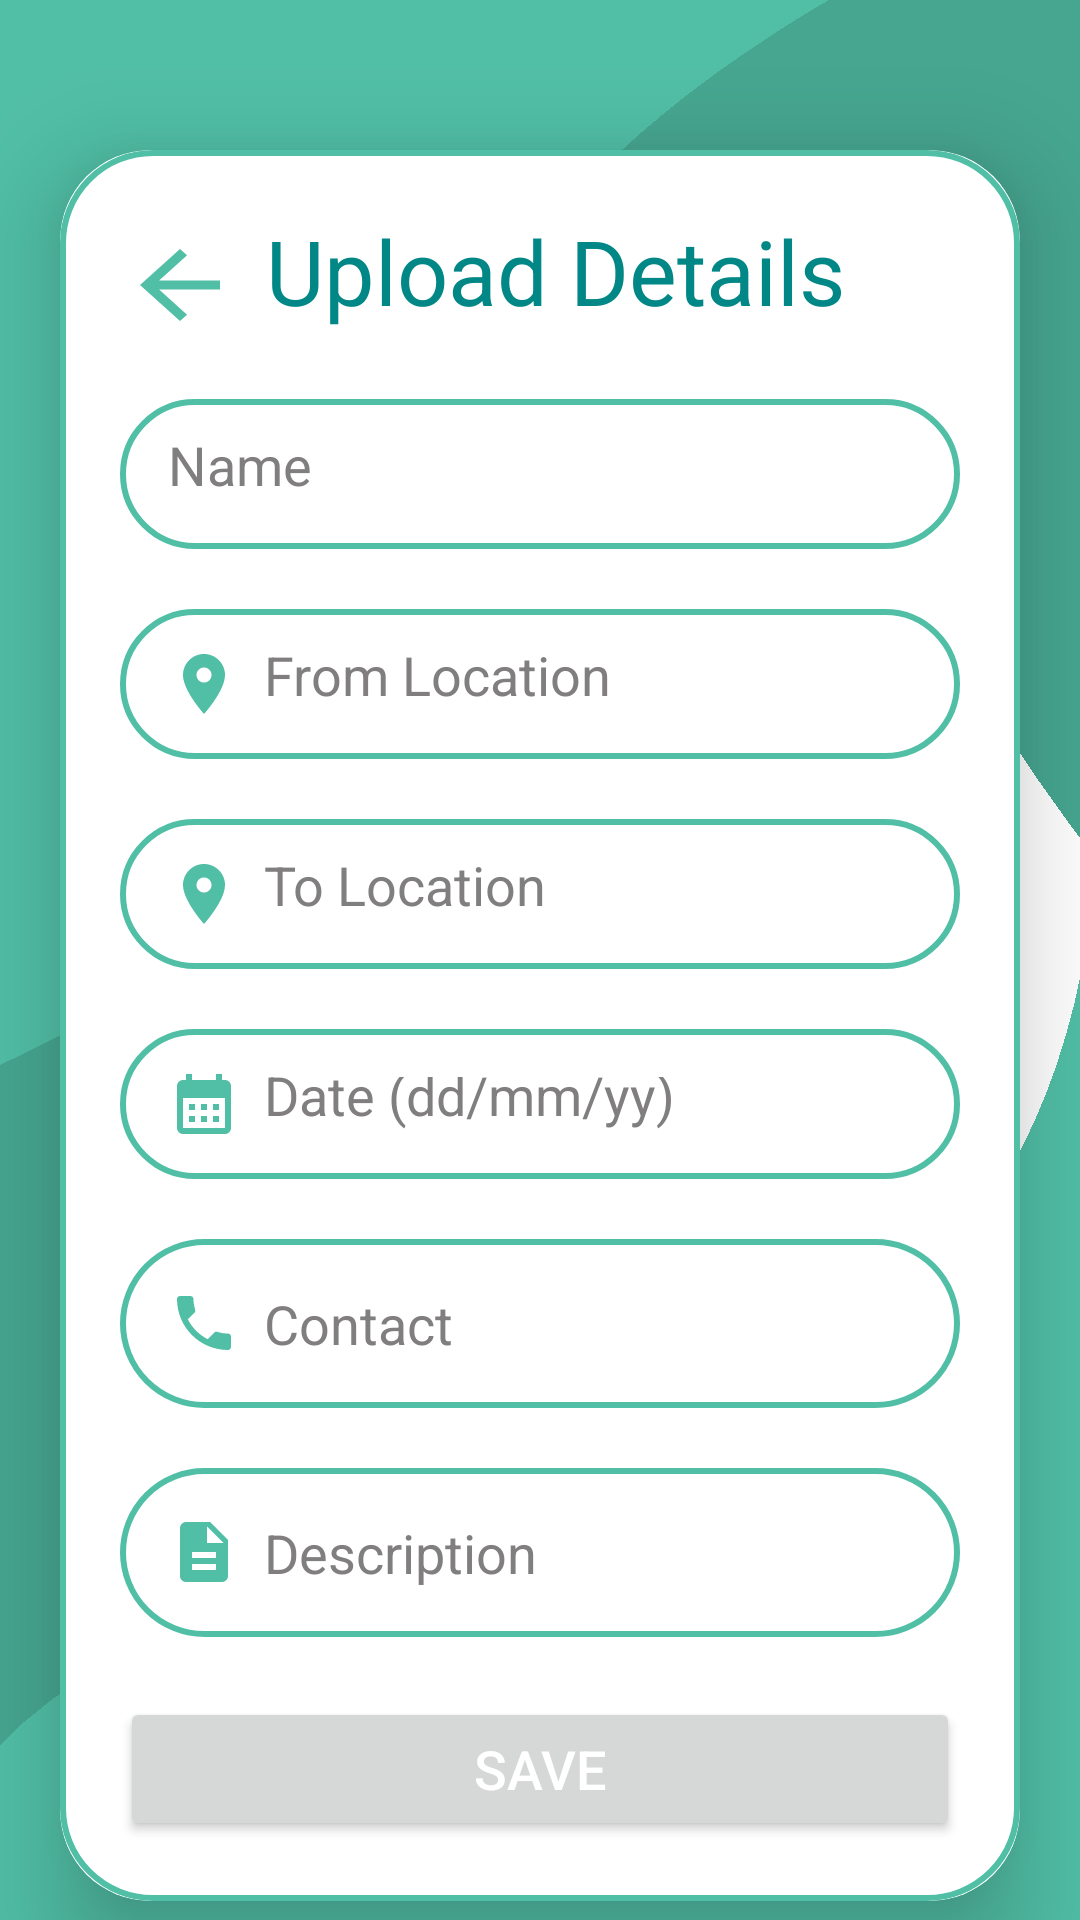

Icon bounding boxes for this 1080w x 1920h phone screenshot, format (x1=x1, y1=y1, x2=x2, y2=y2):
arrow back: (x1=140, y1=249, x2=220, y2=321)
